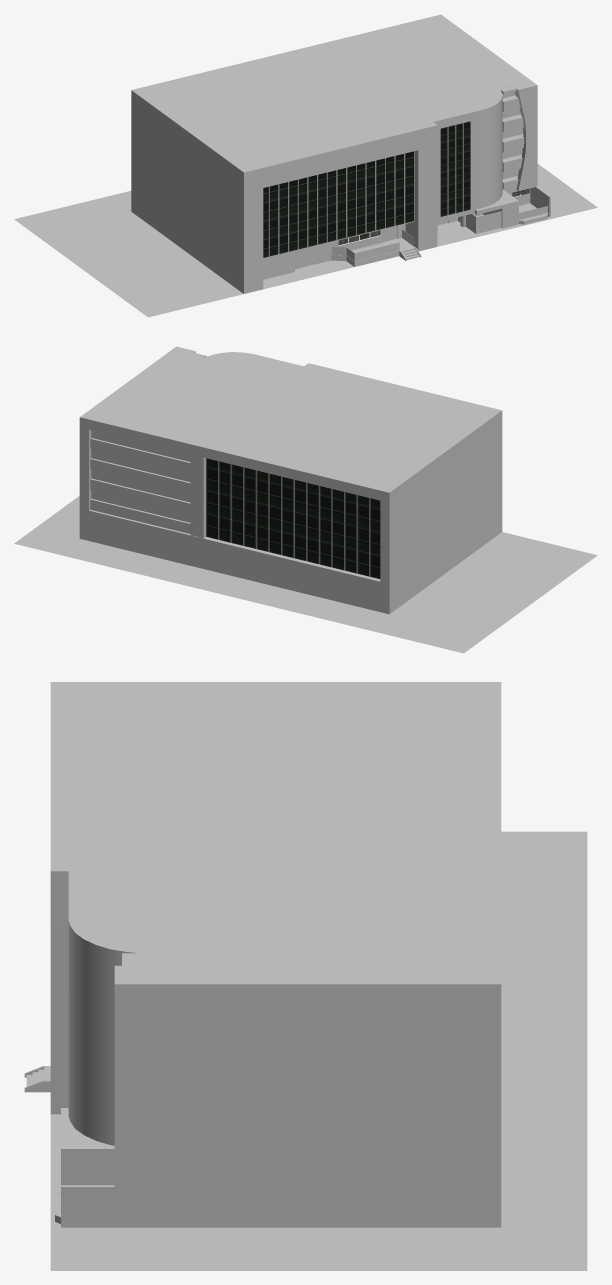
3 views of the same model, one above another, from view 1: azimuth 30°, elevation 25°; view 2: azimuth 150°, elevation 25°; view 3: azimuth 270°, elevation 25° (orthographic). The views are drawn at different scales.
Parts seen in each view (by area): view 1: BB-054; view 2: BB-054; view 3: BB-054.
Part boxes in pixels (x1,y1,x2,y2): BB-054: (14, 14, 597, 317); BB-054: (14, 346, 597, 653); BB-054: (24, 682, 587, 1270).
Size of what is drawn, in the model's own units: 69.7 by 18 by 37.73.
